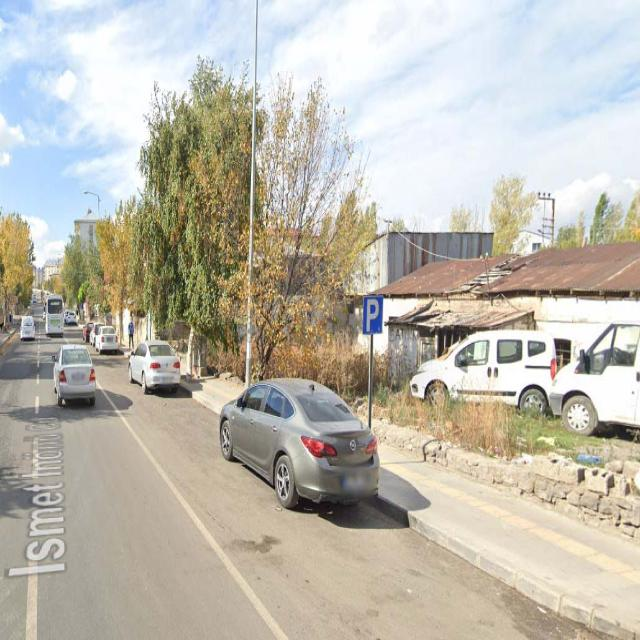park: (364, 295, 383, 332)
